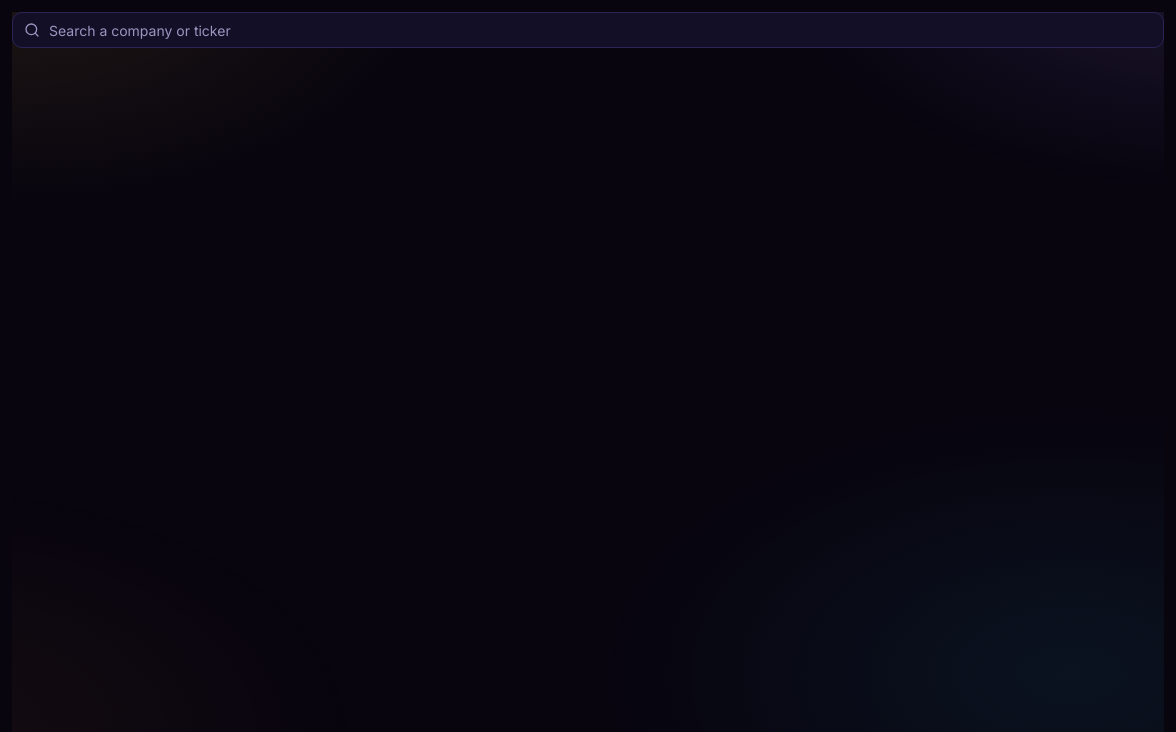
Scenario: CompanySearch › shows an error message, not a crash, when the search fails
Type "app" into the dropdown. click: (588, 30)
box: [12, 12, 1164, 48]
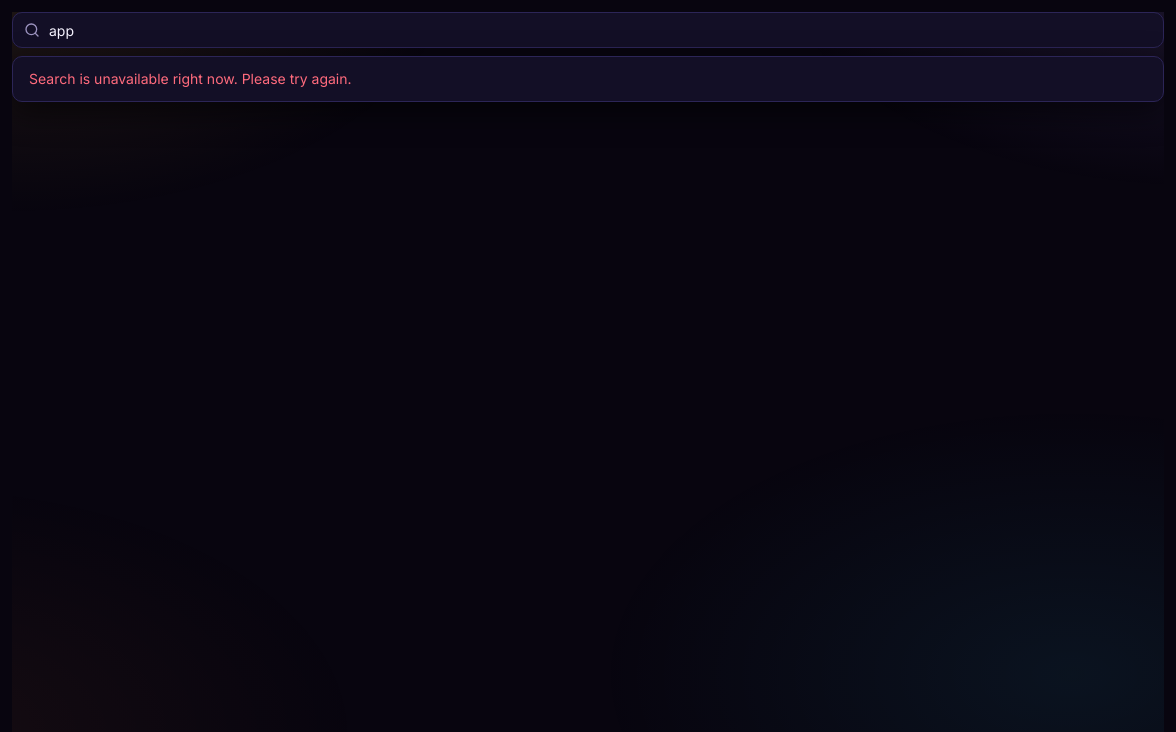
Now the text "Search is unavailable right now. Please try again." is shown, box [29, 70, 352, 87]
